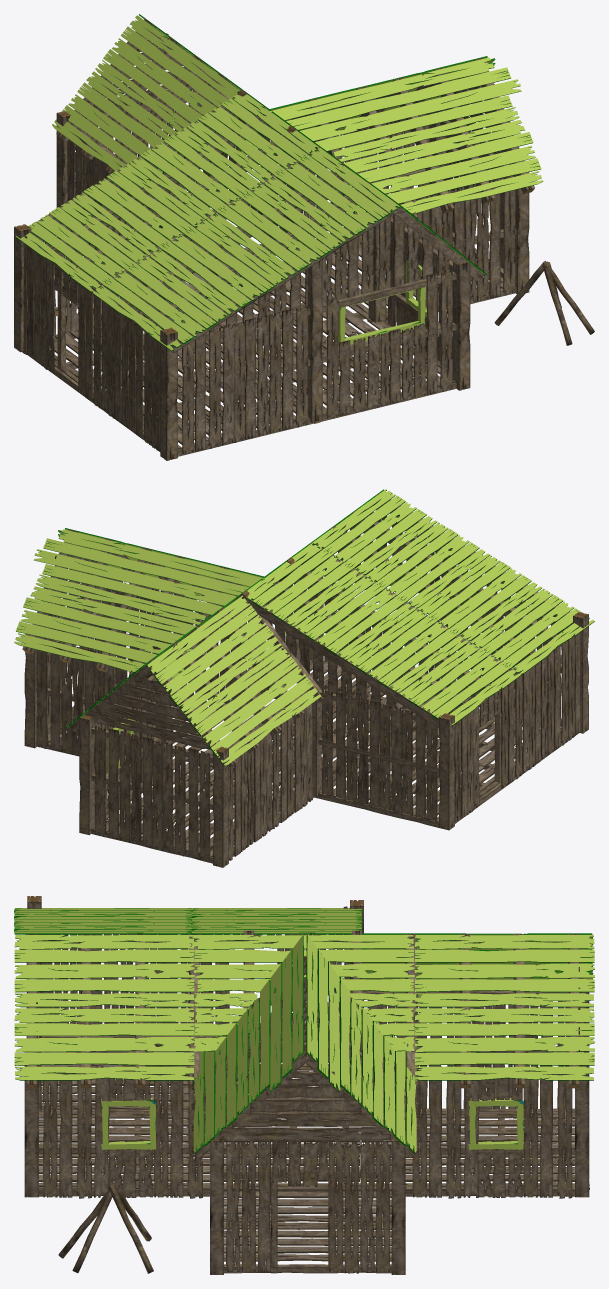
The model's file is woodhouse_model.fbx.
3 renders of one model, top to bottom at view 1: azimuth 30°, elevation 25°; view 2: azimuth 150°, elevation 25°; view 3: azimuth 270°, elevation 25°, orthographic. The views are drawn at different scales.
Parts seen in each view (by area): view 1: wooden_house_preview; view 2: wooden_house_preview; view 3: wooden_house_preview.
Part boxes in pixels (x1,y1,x2,y2): wooden_house_preview: [14, 14, 594, 460]; wooden_house_preview: [14, 489, 594, 867]; wooden_house_preview: [14, 896, 594, 1274].
Bounding box in the file's own units: 725 × 307 × 709.
